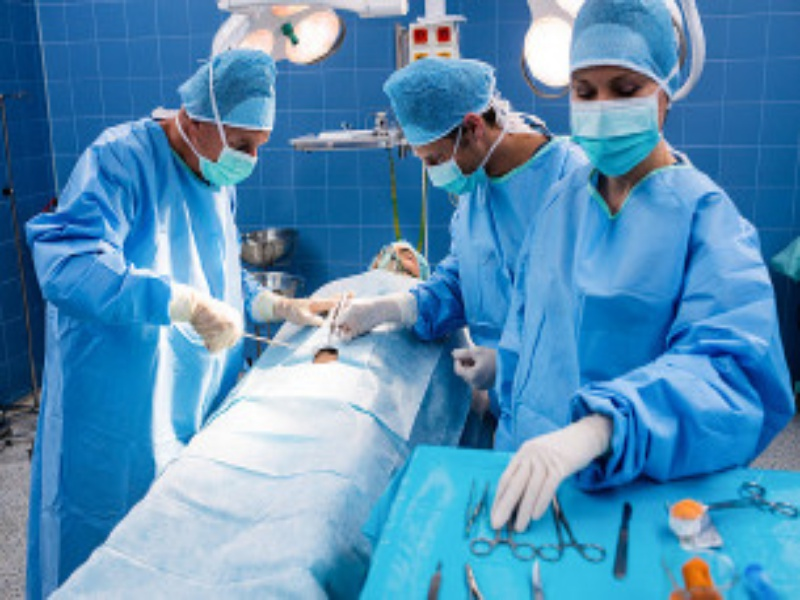mask: (557, 8, 692, 188), (384, 58, 521, 194), (164, 53, 289, 189)
